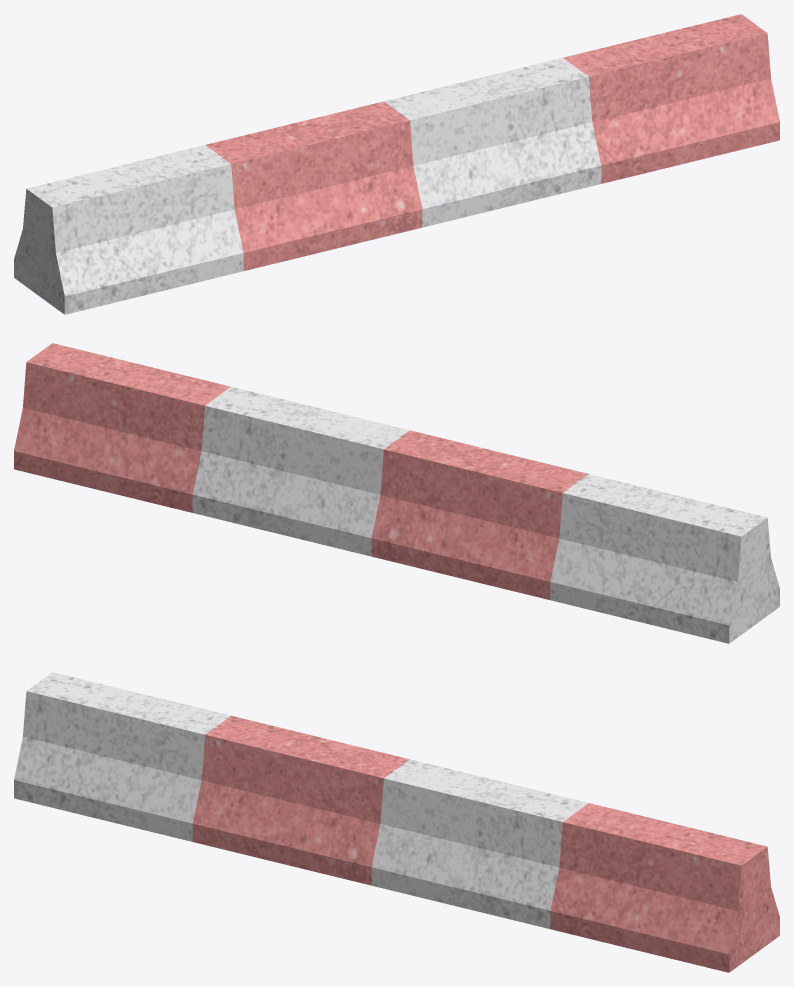
The model's file is barreira.glb.
The picture shows the model from 3 angles, top to bottom: view 1: azimuth 30°, elevation 25°; view 2: azimuth 150°, elevation 25°; view 3: azimuth 330°, elevation 25°; orthographic projection.
Parts seen in each view (by area): view 1: barrierWall(Clone); view 2: barrierWall(Clone); view 3: barrierWall(Clone).
Boxes of the visible parts, x1,y1,x2,y2 form: barrierWall(Clone): (14,14,779,314); barrierWall(Clone): (14,343,779,643); barrierWall(Clone): (14,672,779,972).
Size of the model in its own units: 1 by 0.1312 by 0.123.
2 materials, 2 textured.
